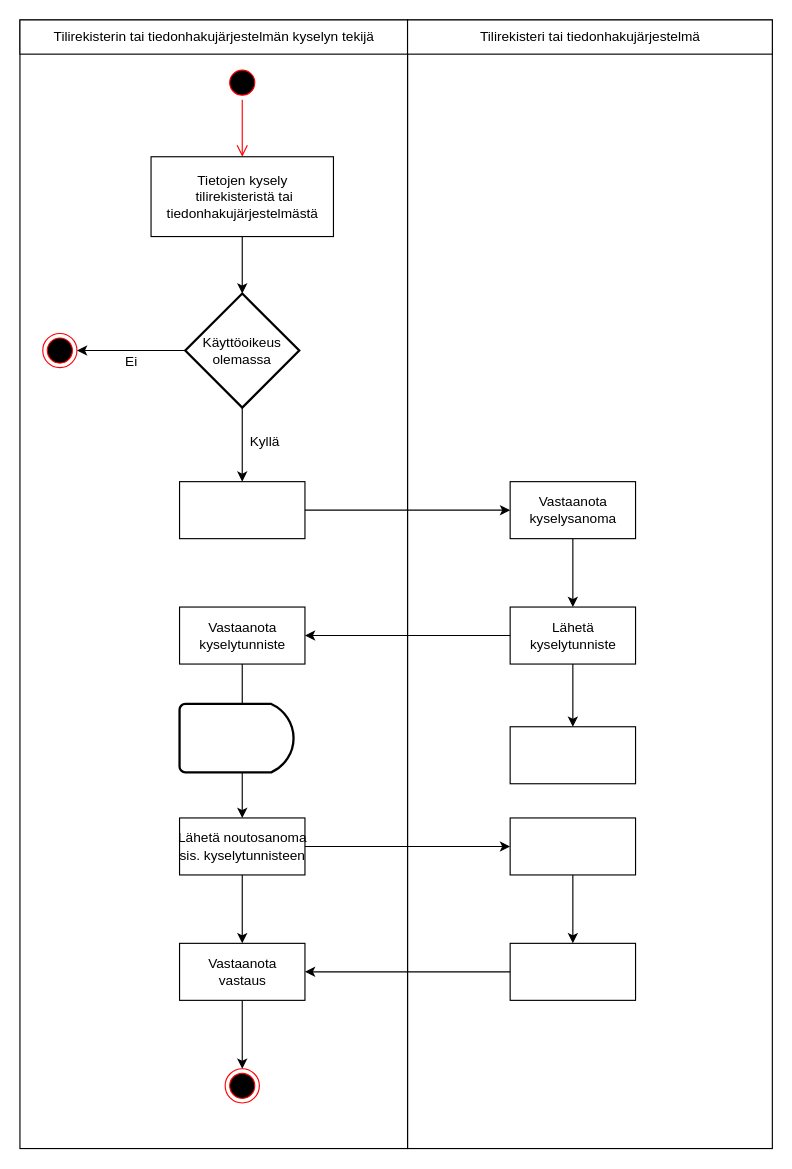
The diagram is 792 pixels wide and 1169 high, and some of its shapes have lost their labels. Each missing label, with the centre of its shape:
"Aloita vastauksen koostaminen" belongs at (572,755).
"Lähetä kyselysanoma" belongs at (241,510).
"Odota määritelty aika" belongs at (236,737).
"Palauta vastaus" belongs at (572,971).
"Vastaanota noutosanoma" belongs at (572,846).
